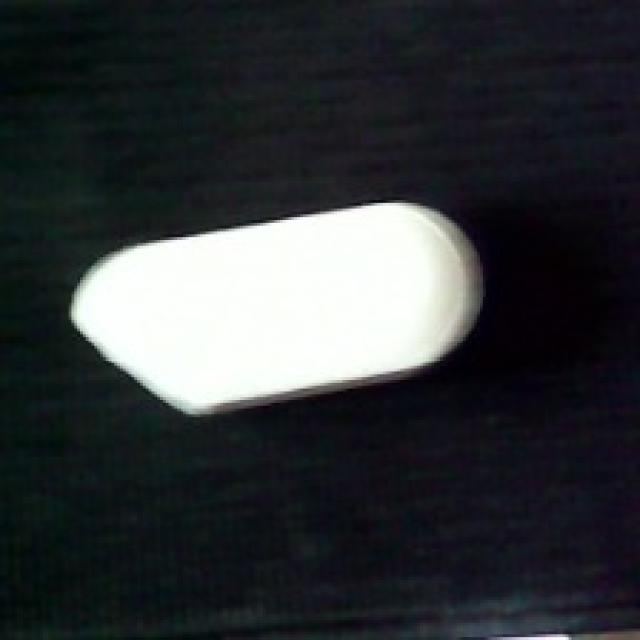defected: (63, 198, 483, 418)
